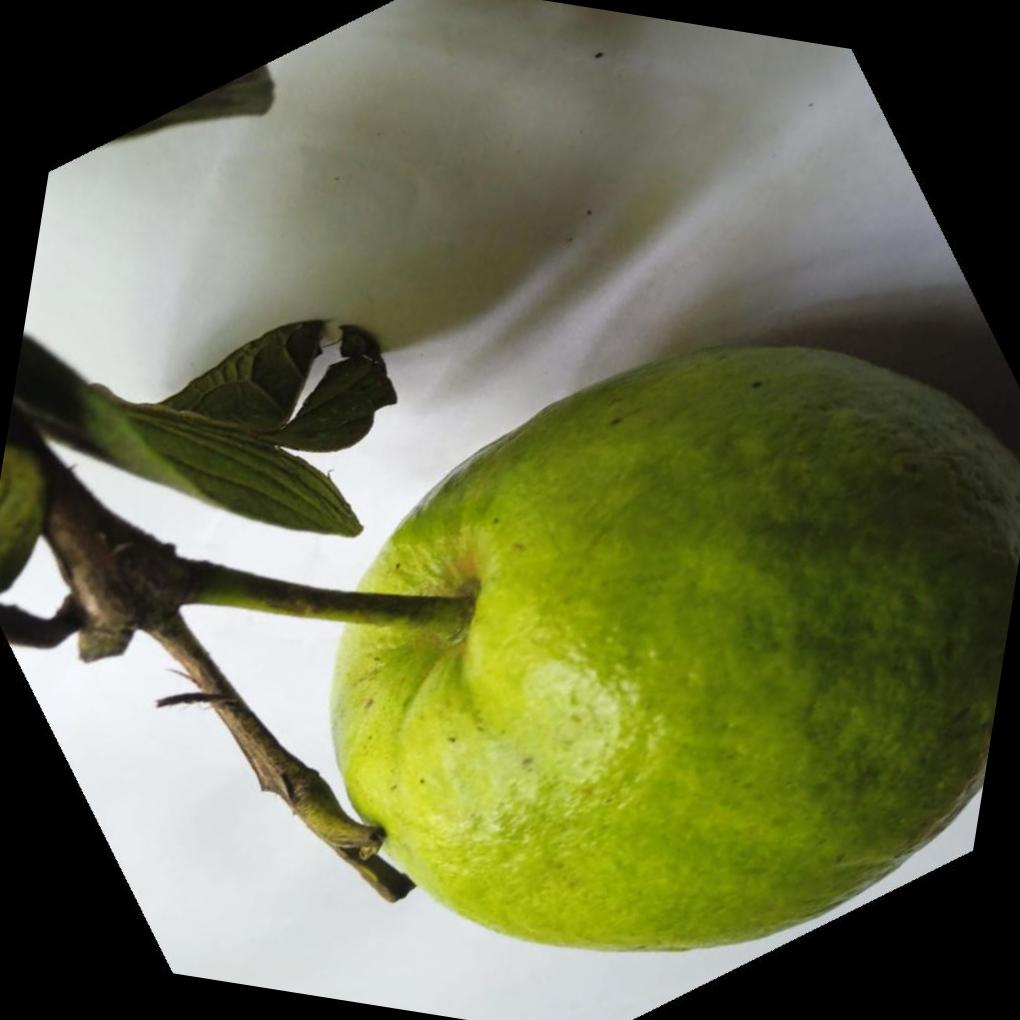FreshGuava: (213, 339, 1020, 951)
